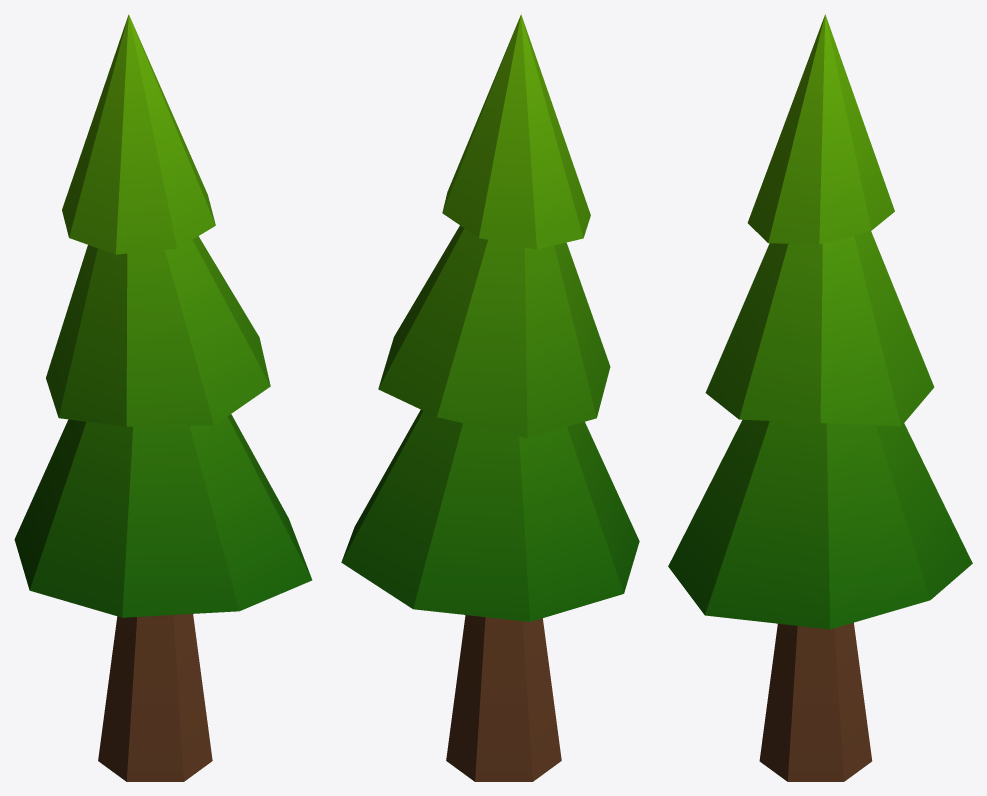
The model's file is tree_pine_2.glb.
3 renders of one model, left to right at view 1: azimuth 30°, elevation 25°; view 2: azimuth 150°, elevation 25°; view 3: azimuth 270°, elevation 25°, orthographic. The views are drawn at different scales.
Parts seen in each view (by area): view 1: tree_pine_2; view 2: tree_pine_2; view 3: tree_pine_2.
Part boxes in pixels (box(x1,y1,x2,y2)): tree_pine_2: box(14, 14, 312, 781); tree_pine_2: box(341, 14, 639, 781); tree_pine_2: box(668, 14, 972, 781).
Bounding box in the file's own units: 1.84 × 5 × 1.88.
1 material, 1 textured.
